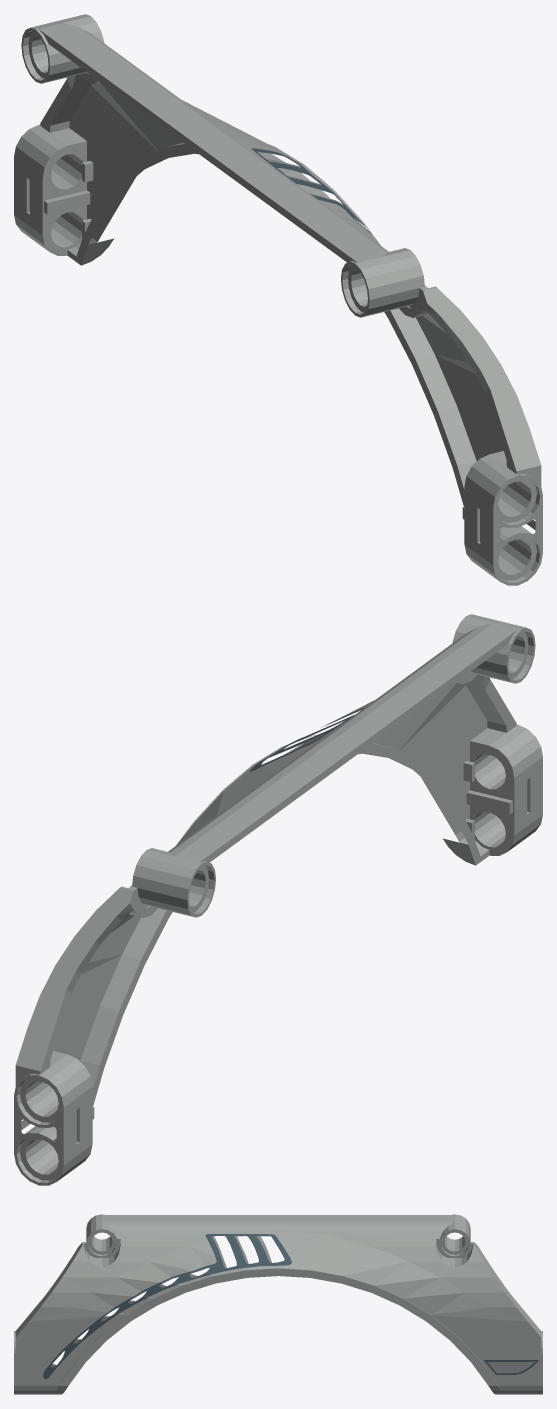
The picture shows the model from 3 angles, top to bottom: view 1: azimuth 30°, elevation 25°; view 2: azimuth 150°, elevation 25°; view 3: azimuth 270°, elevation 25°; orthographic projection. The views are drawn at different scales.
Parts seen in each view (by area): view 1: world; view 2: world; view 3: world.
Part boxes in pixels (x1=…): world: x1=14, y1=14, x2=542, y2=585; world: x1=14, y1=614, x2=542, y2=1185; world: x1=14, y1=1214, x2=542, y2=1394.
Size of the model in its own units: 0.0158 by 0.0392 by 0.12.
